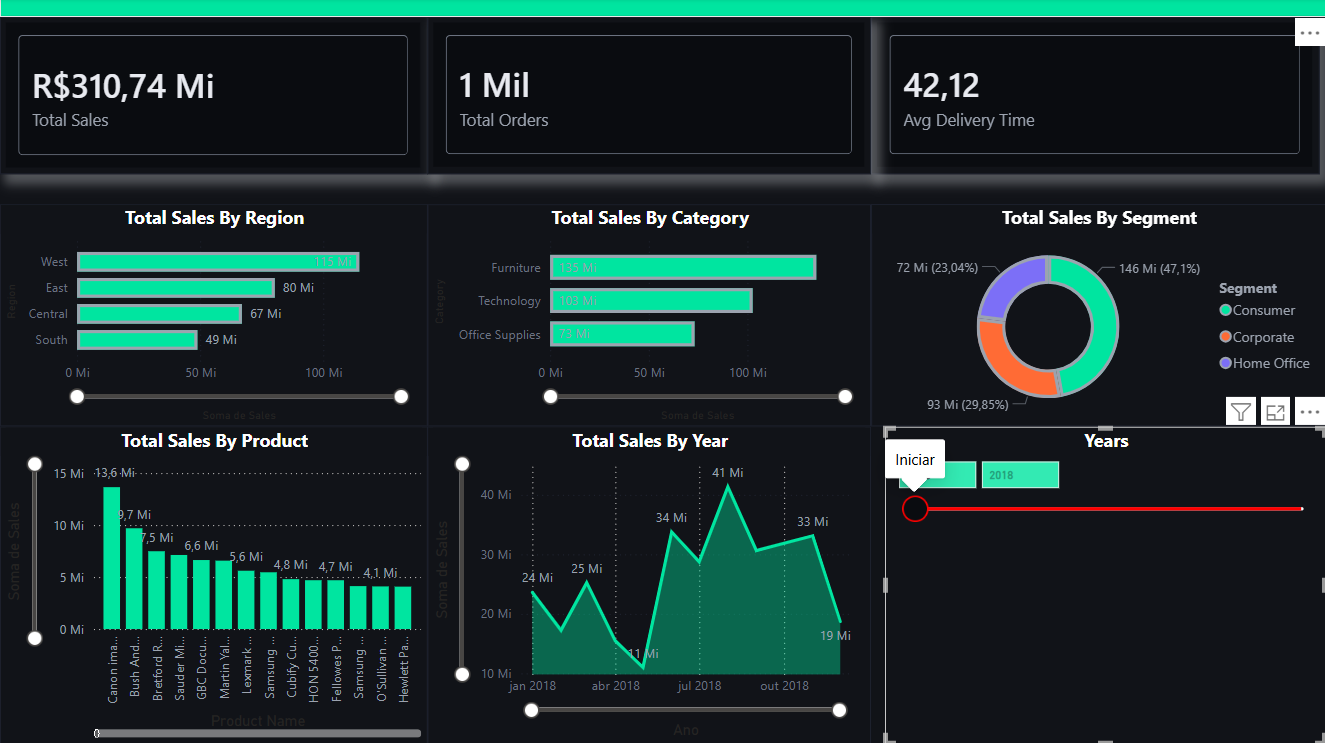

The page's visual inventory and layout, read from the dashboard file:
{"tool":"powerbi","page":{"name":"Página 1","canvas":[1280,720],"ordinal":0},"visuals":[{"type":"barChart","title":"Total Sales By Category","fields":{"Category":["superstore_clean.Category"],"Y":["Sum(superstore_clean.Sales)"]},"box":[412.6,199.1,428.3,214.7],"z":0},{"type":"lineChart","title":"Total Sales By Year","fields":{"Category":["superstore_clean.Order Date.Variation.Hierarquia de datas.Ano","superstore_clean.Order Date.Variation.Hierarquia de datas.Trimestre","superstore_clean.Order Date.Variation.Hierarquia de datas.Mês","superstore_clean.Order Date.Variation.Hierarquia de datas.Dia"],"Y":["Sum(superstore_clean.Sales)"]},"box":[412.6,413.8,428.3,306.4],"z":1000},{"type":"barChart","title":"Total Sales By Region","fields":{"Category":["superstore_clean.Region"],"Y":["Sum(superstore_clean.Sales)"]},"box":[0,199.1,412.6,214.7],"z":2000},{"type":"donutChart","title":"Total Sales By Segment","fields":{"Category":["superstore_clean.Segment"],"Y":["Sum(superstore_clean.Sales)"]},"box":[840.9,199.1,439.1,214.7],"z":3000},{"type":"slicer","title":"Years","fields":{"Values":["superstore_clean.Year"]},"box":[840.9,413.8,425.9,306.4],"z":4000},{"type":"cardVisual","fields":{"Data":["superstore_clean.Total Sales"]},"box":[0,18.1,412.6,152],"z":6000},{"type":"cardVisual","fields":{"Data":["superstore_clean.Avg Delivery Time"]},"box":[840.8,18.6,432.6,151.8],"z":7000},{"type":"columnChart","title":"Total Sales By Product","fields":{"Category":["superstore_clean.Product Name"],"Y":["Sum(superstore_clean.Sales)"]},"box":[0,413.8,412.6,306.4],"z":8000},{"type":"cardVisual","fields":{"Data":["superstore_clean.Total Orders"]},"box":[412.5,18.6,428.3,151.8],"z":8001}]}

Visuals, with their boxes in screenshot pixels (x1, y1, x2, y2), scaled from the page's 1280x720 canvas onto the 1325x743 screenshot:
"Total Sales By Category" barChart: x1=427 y1=205 x2=870 y2=427
"Total Sales By Year" lineChart: x1=427 y1=427 x2=870 y2=742
"Total Sales By Region" barChart: x1=0 y1=205 x2=427 y2=427
"Total Sales By Segment" donutChart: x1=870 y1=205 x2=1324 y2=427
"Years" slicer: x1=870 y1=427 x2=1311 y2=742
cardVisual - superstore_clean.Total Sales: x1=0 y1=19 x2=427 y2=176
cardVisual - superstore_clean.Avg Delivery Time: x1=870 y1=19 x2=1318 y2=176
"Total Sales By Product" columnChart: x1=0 y1=427 x2=427 y2=742
cardVisual - superstore_clean.Total Orders: x1=427 y1=19 x2=870 y2=176
